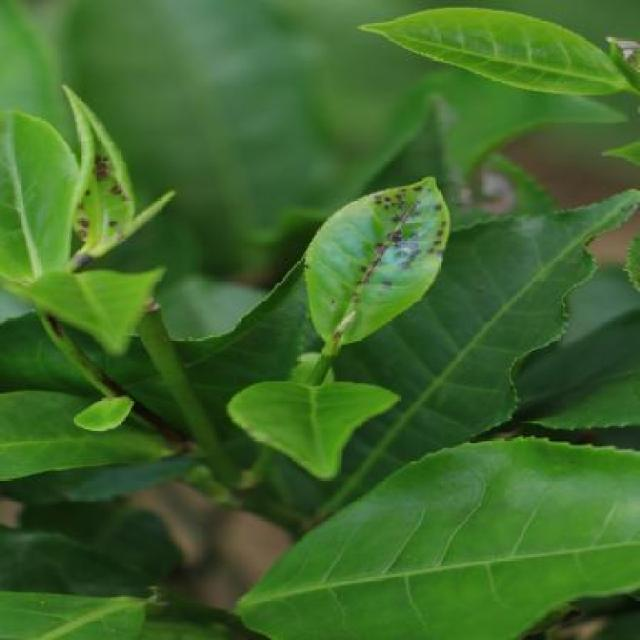Tea Mosquito bug infested leaf: (303, 163, 451, 352), (48, 114, 146, 269)
